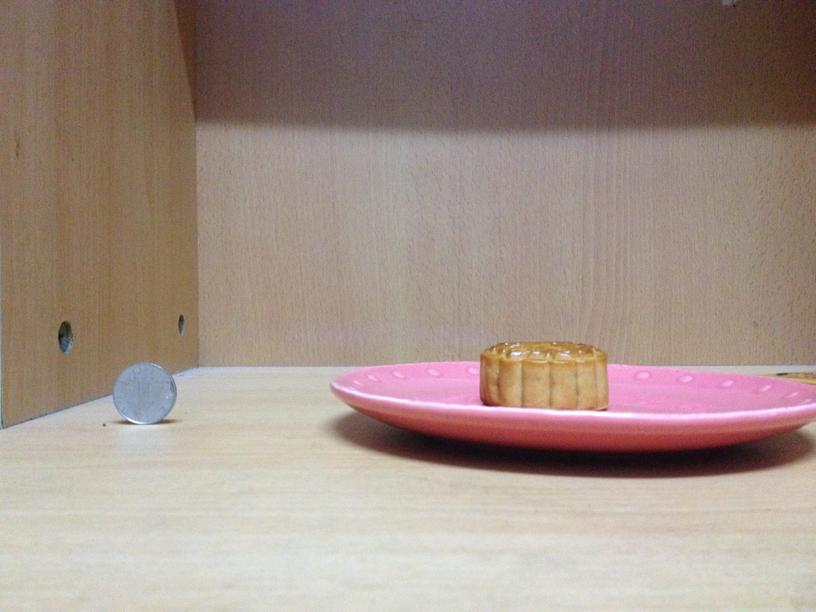coin: (108, 360, 176, 425)
mooncake: (477, 339, 609, 410)
